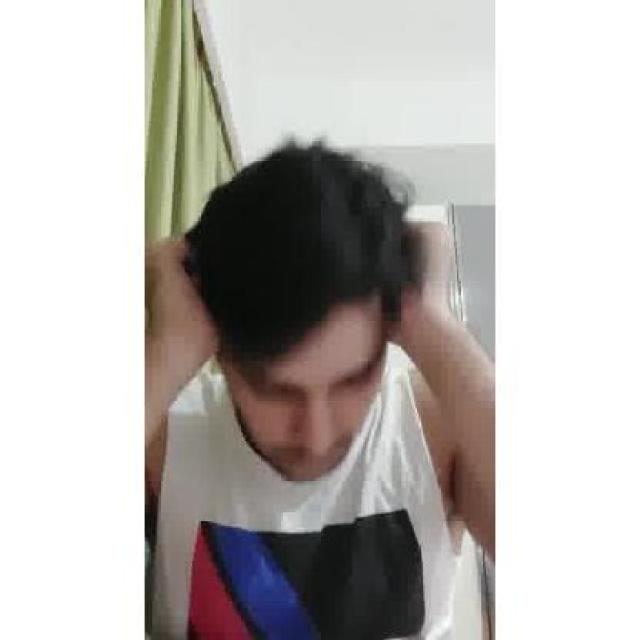inattentif: (215, 150, 398, 484)
